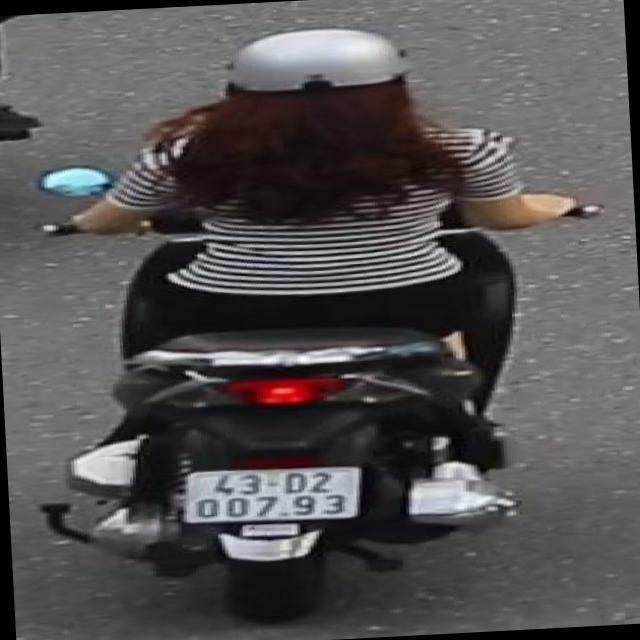LP: (176, 459, 368, 531)
helmet: (209, 24, 441, 164)
